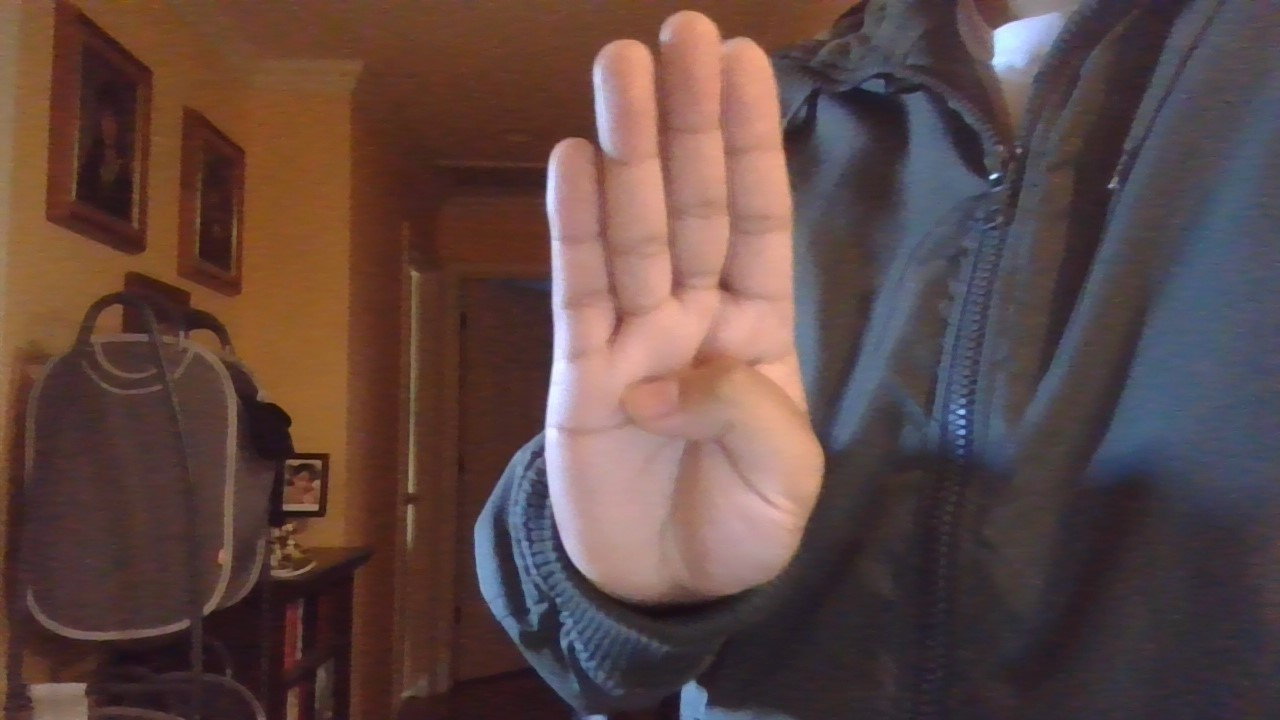b: (504, 6, 875, 632)
